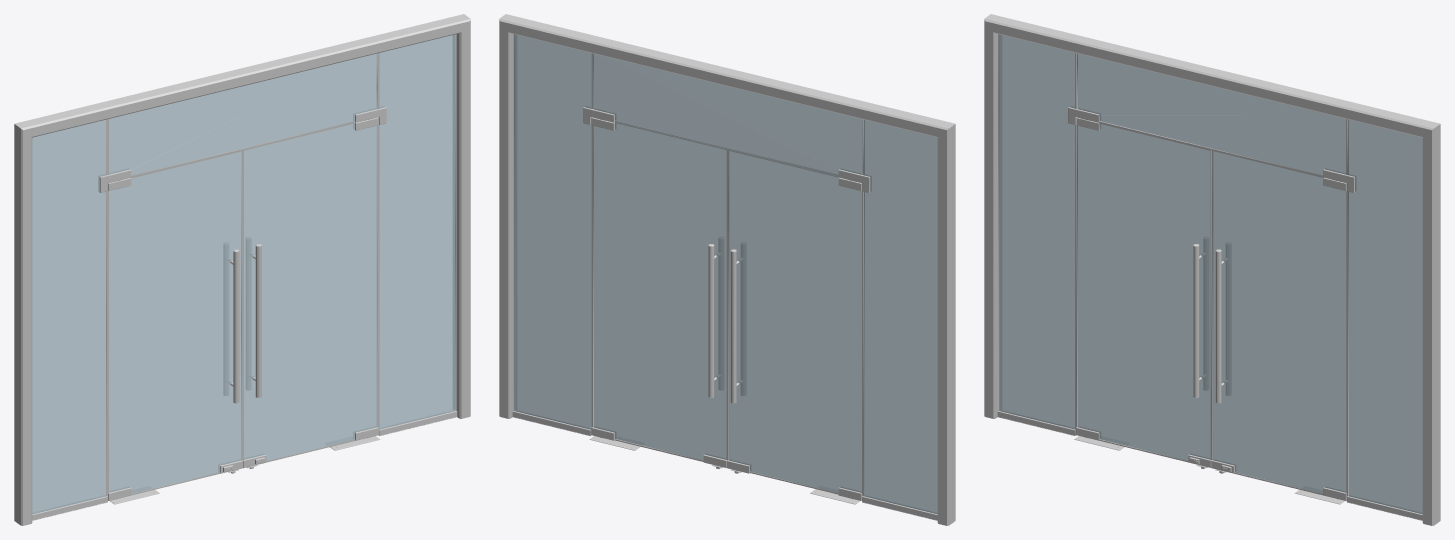
File: 博物门.fbx
3 views of the same model, side by side, from view 1: azimuth 30°, elevation 25°; view 2: azimuth 150°, elevation 25°; view 3: azimuth 330°, elevation 25° (orthographic).
Visible parts, largest first — view 1: 玻璃门未763; view 2: 玻璃门未763; view 3: 玻璃门未763.
Part boxes in pixels (x1,y1,x2,y2): 玻璃门未763: (14,14,470,525); 玻璃门未763: (499,14,955,525); 玻璃门未763: (984,14,1440,525).
Bounding box in the file's own units: 271 × 230 × 13.67.
